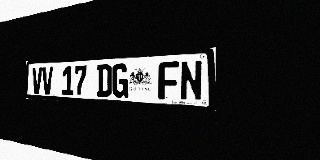1: (62, 66, 74, 95)
7: (74, 65, 87, 96)
D: (97, 64, 112, 97)
F: (158, 61, 179, 100)
G: (112, 63, 128, 98)
N: (180, 60, 203, 101)
V: (42, 67, 53, 94), (32, 67, 42, 94)
